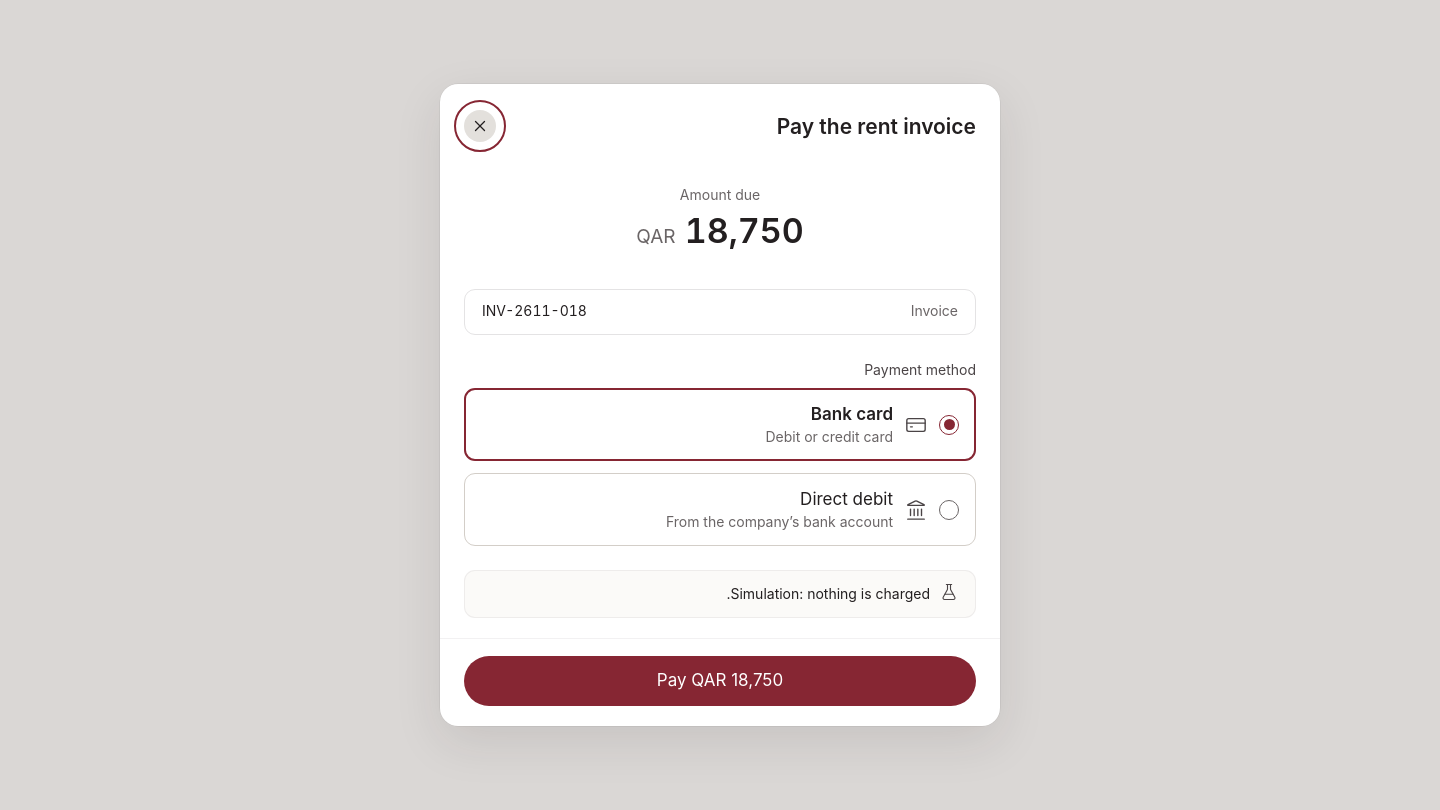
Test case: transaction sheets › pays in three steps and reports the payment once
Later steps or results of the test are not shown.
Click the button "Pay QAR 18,750" at point(720, 681), box left=464, top=656, right=976, bottom=706
Wait 1250 ms
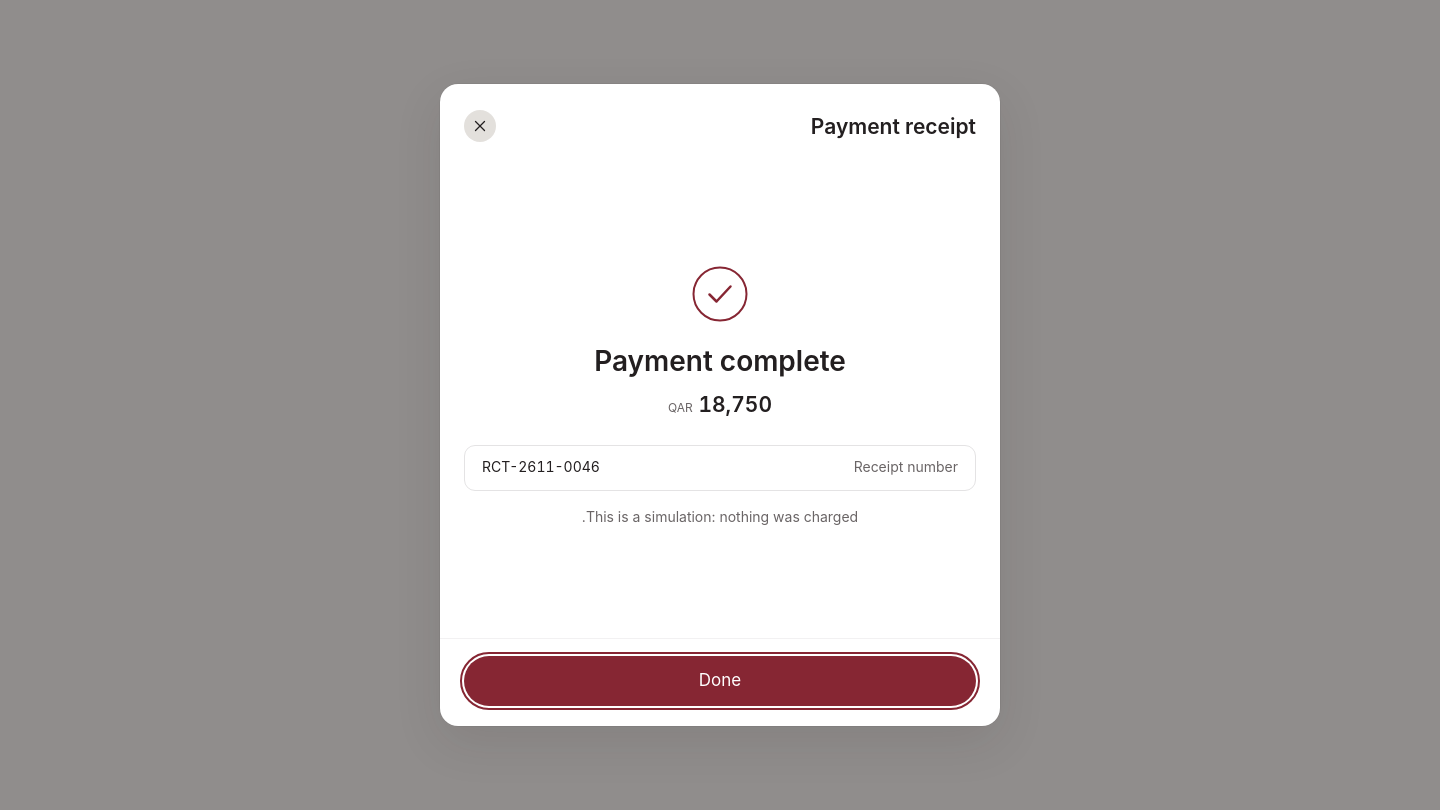
Now the text "Payment complete" is shown, box left=594, top=342, right=846, bottom=382
Now the text "RCT-2611-0046" is shown, box left=482, top=458, right=600, bottom=475
